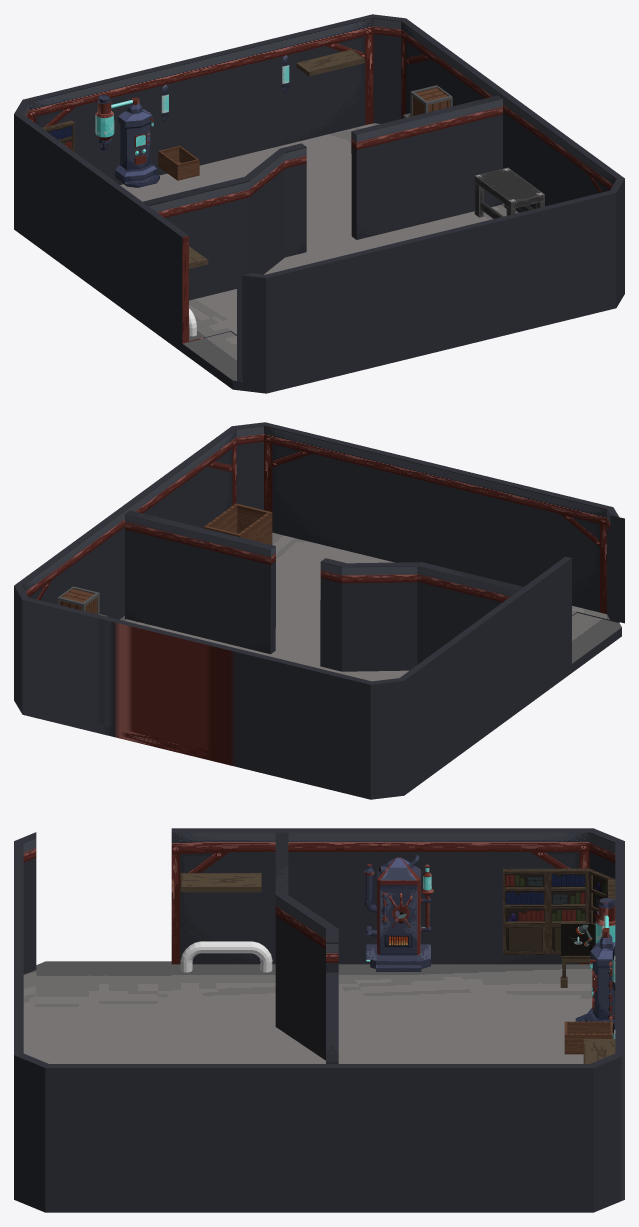
3 renders of one model, top to bottom at view 1: azimuth 30°, elevation 25°; view 2: azimuth 150°, elevation 25°; view 3: azimuth 270°, elevation 25°, orthographic. The views are drawn at different scales.
Visible parts, largest first — view 1: ชั้น2, Cube.062, New object.047, Cube.050, Cube.064, Cube.049, Cube.065, New object.048; view 2: ชั้น2, Cube.062, Cube.051, Cube.065; view 3: ชั้น2, Cube.062, New object.048, New object.045, New object.047, Cube.047, Plane.001, Cube.064, Cube.049.
Part boxes in pixels (x1,y1,x2,y2): ชั้น2: [14, 14, 624, 393]; Cube.062: [143, 95, 502, 300]; New object.047: [95, 95, 159, 187]; Cube.050: [474, 167, 544, 218]; Cube.064: [158, 146, 199, 180]; Cube.049: [296, 49, 364, 76]; Cube.065: [410, 85, 452, 116]; New object.048: [42, 120, 74, 151]; ชั้น2: [14, 422, 624, 799]; Cube.062: [125, 510, 523, 671]; Cube.051: [203, 503, 272, 544]; Cube.065: [57, 586, 99, 614]; ชั้น2: [14, 828, 624, 1212]; Cube.062: [275, 832, 338, 1063]; New object.048: [503, 868, 615, 987]; New object.045: [364, 855, 433, 971]; New object.047: [575, 898, 615, 1022]; Cube.047: [180, 873, 261, 892]; Plane.001: [180, 941, 272, 972]; Cube.064: [564, 1021, 613, 1054]; Cube.049: [583, 1039, 615, 1063].
Size of the model in its own units: 404 by 114 by 436.
23 materials, 17 textured.
